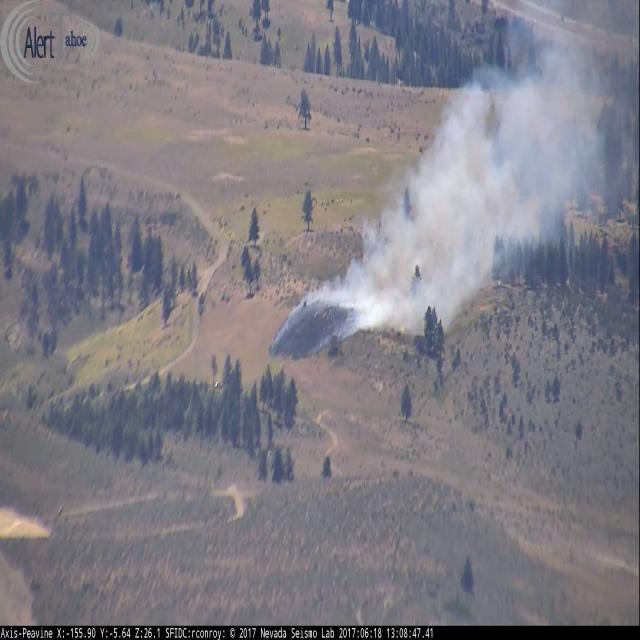smoke: (276, 0, 640, 367)
